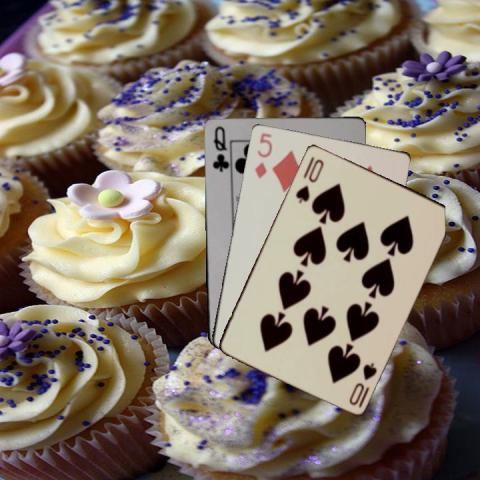10s: (345, 359, 379, 407), (292, 156, 325, 204)
5d: (252, 130, 274, 180)
Qc: (209, 123, 229, 172)
